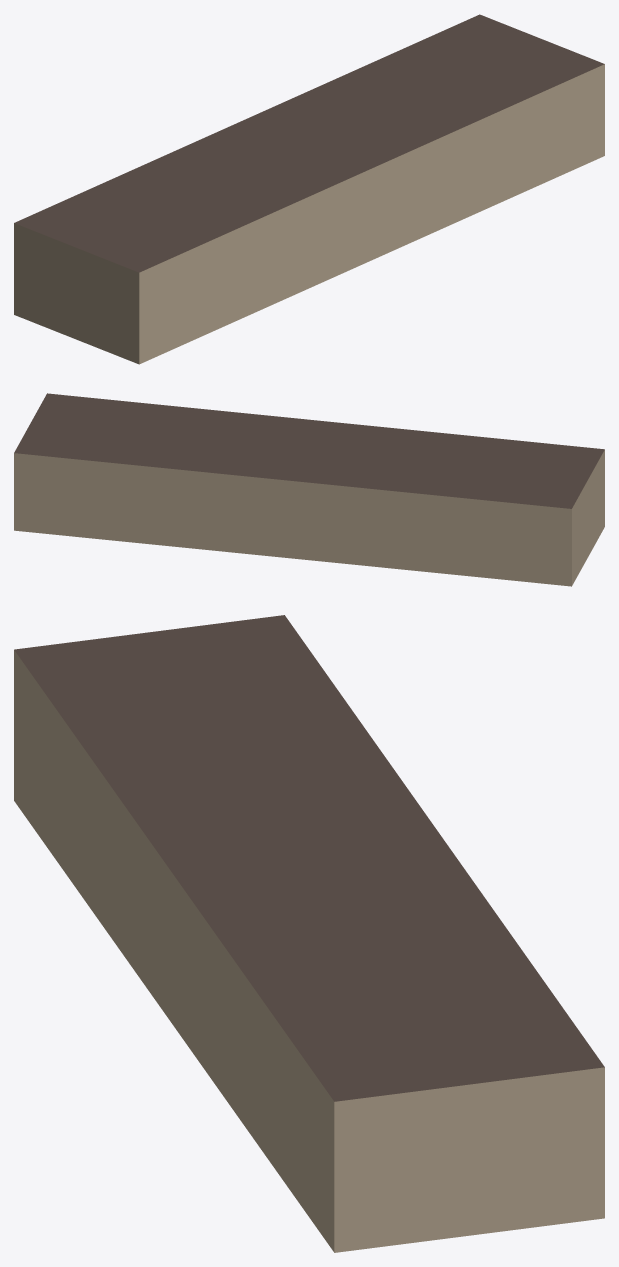
The picture shows the model from 3 angles, top to bottom: view 1: azimuth 30°, elevation 25°; view 2: azimuth 150°, elevation 25°; view 3: azimuth 270°, elevation 25°; orthographic projection. The views are drawn at different scales.
Visible parts, largest first — view 1: HP-w859488650; view 2: HP-w859488650; view 3: HP-w859488650.
Boxes of the visible parts, x1,y1,x2,y2 form: HP-w859488650: [14, 14, 604, 364]; HP-w859488650: [14, 393, 604, 586]; HP-w859488650: [14, 615, 604, 1252].
Bounding box in the file's own units: 62.17 × 9 × 31.9.
